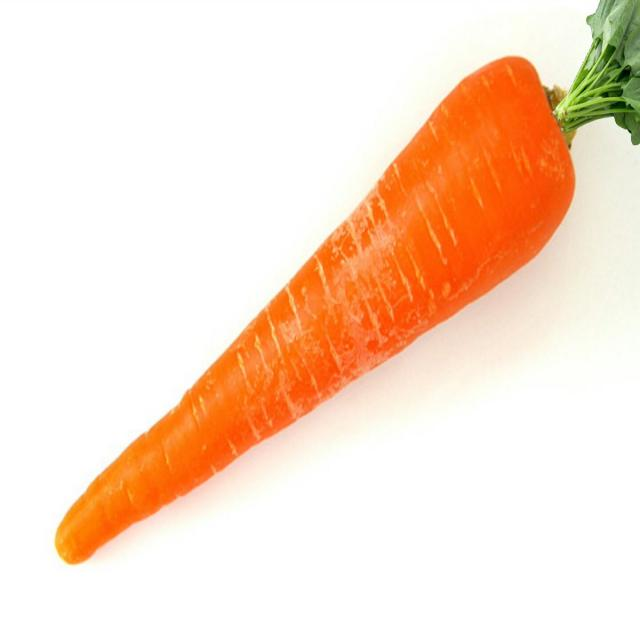Carrot: (55, 66, 571, 563)
